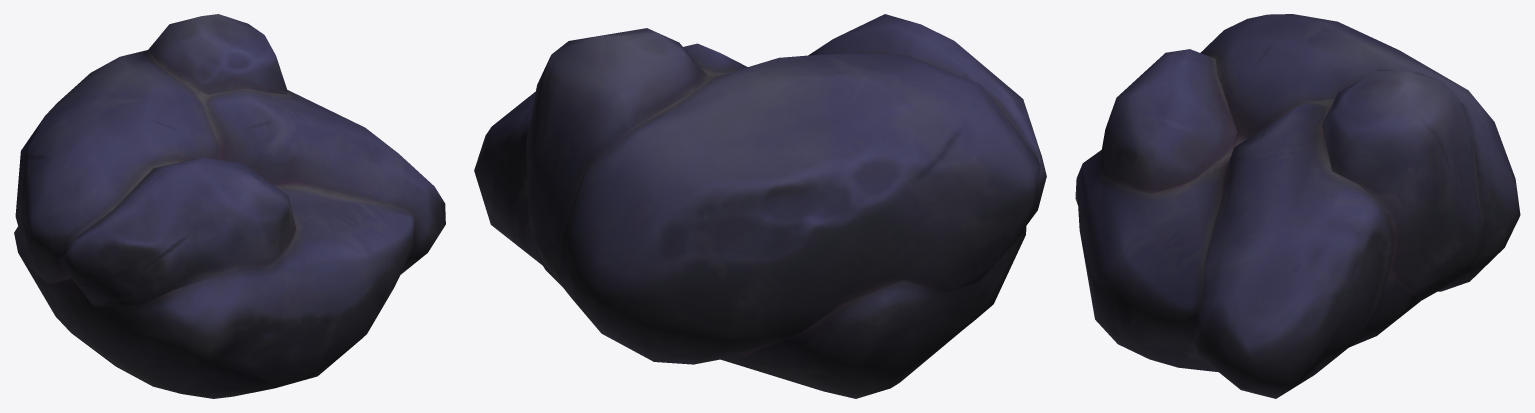
Rendered from SM_Gem_Obsidian_003.fbx.
3 views of the same model, side by side, from view 1: azimuth 30°, elevation 25°; view 2: azimuth 150°, elevation 25°; view 3: azimuth 270°, elevation 25° (orthographic). The views are drawn at different scales.
Parts seen in each view (by area): view 1: SM_Gem_Obsidian_003; view 2: SM_Gem_Obsidian_003; view 3: SM_Gem_Obsidian_003.
Part boxes in pixels (x1,y1,x2,y2): SM_Gem_Obsidian_003: [14, 14, 445, 398]; SM_Gem_Obsidian_003: [474, 14, 1046, 398]; SM_Gem_Obsidian_003: [1075, 14, 1520, 398].
Size of the model in its own units: 65.47 by 43.4 by 56.56.
